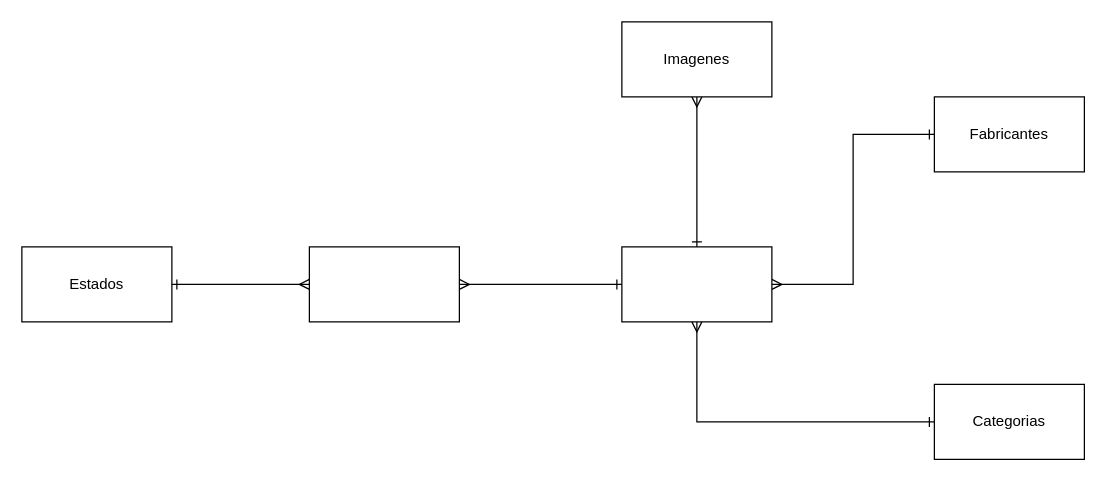
Some shapes in this 1106 by 481 pixel diagram are drawn without their labels. Here are the shapes that lost their labels. From the top down, the centre of each, then its label:
At point (383, 284): "Publicaciones".
At point (696, 284): "Productos".
